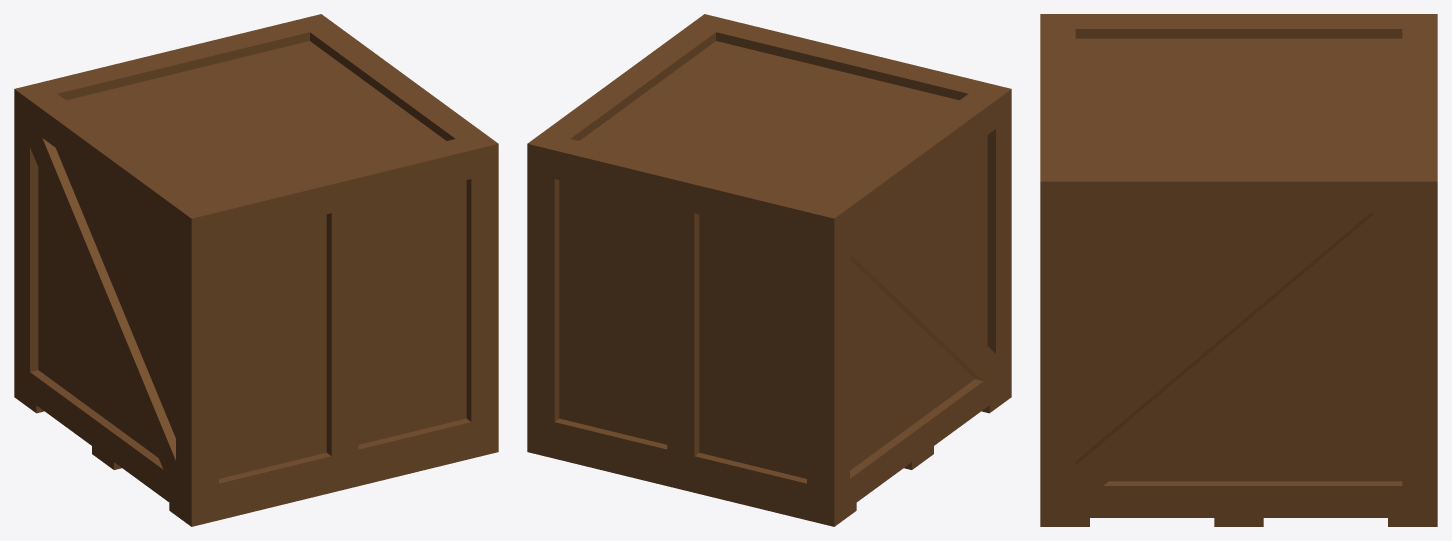
The picture shows the model from 3 angles, left to right: view 1: azimuth 30°, elevation 25°; view 2: azimuth 150°, elevation 25°; view 3: azimuth 270°, elevation 25°; orthographic projection. The views are drawn at different scales.
Parts seen in each view (by area): view 1: Lp_Box; view 2: Lp_Box; view 3: Lp_Box.
Part boxes in pixels (x1,y1,x2,y2): Lp_Box: [14, 14, 498, 526]; Lp_Box: [527, 14, 1011, 526]; Lp_Box: [1040, 14, 1437, 526].
Size of the model in its own units: 1.14 by 1.09 by 1.14.
